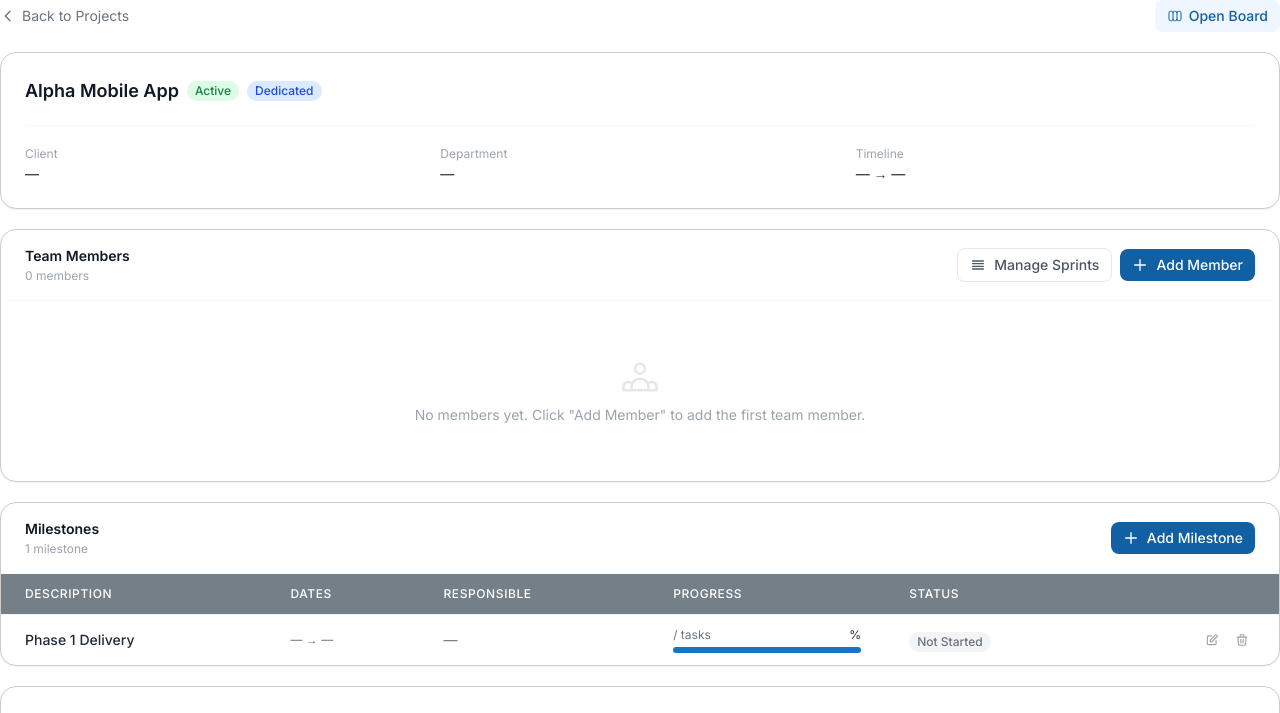
MilestonesSection_AddButton_OpensModal
Expected: the text "Phase 1 Delivery" is shown, x1=25 y1=631 x2=134 y2=648
Click the button "Add Milestone".
click(1183, 538)  # box x1=1111 y1=522 x2=1255 y2=554
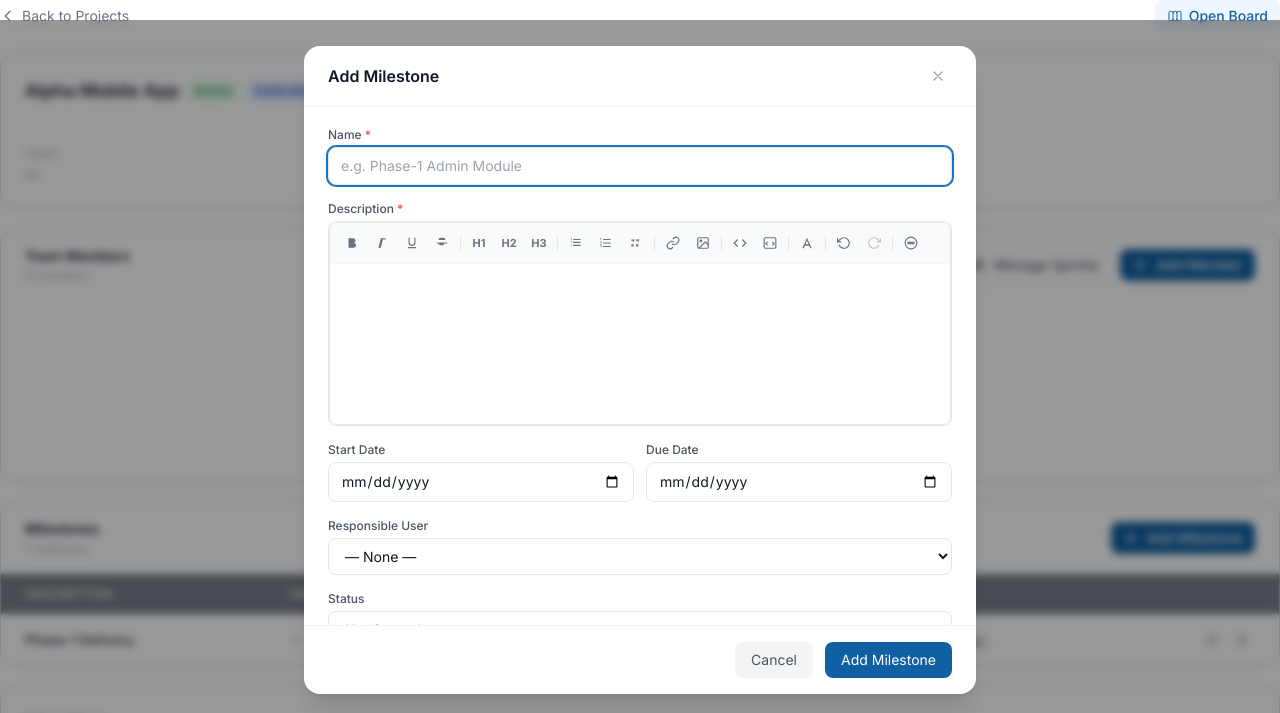
Expected: the heading "Add Milestone" is shown, x1=328 y1=64 x2=439 y2=88
